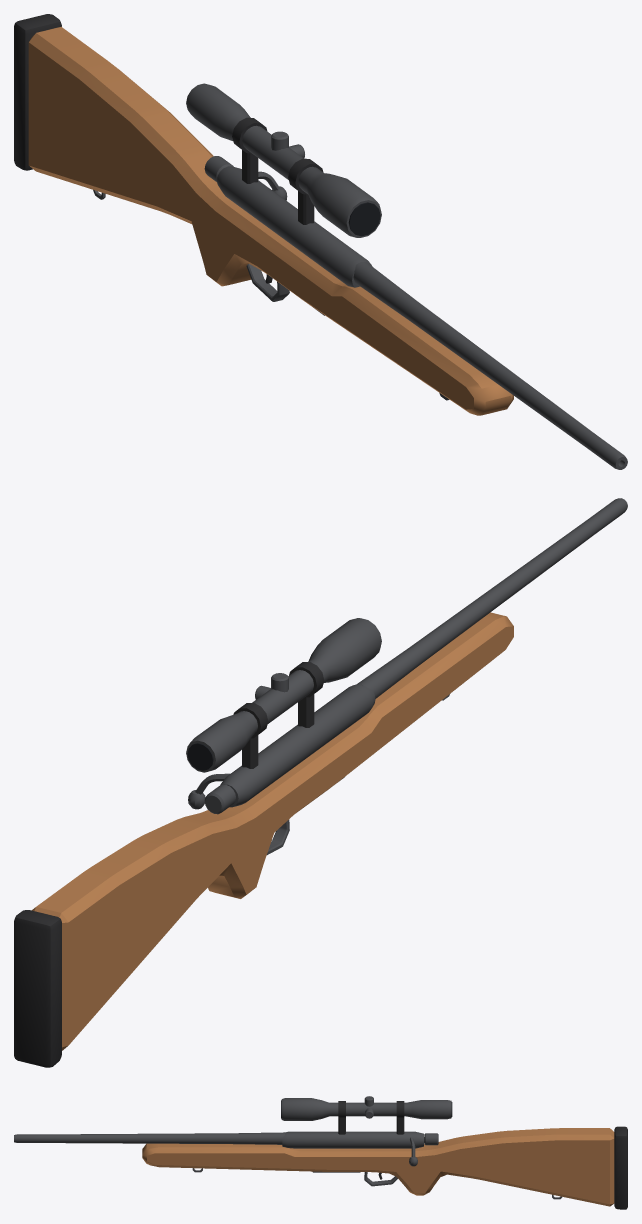
The model's file is PropRifle.fbx.
3 views of the same model, one above another, from view 1: azimuth 30°, elevation 25°; view 2: azimuth 150°, elevation 25°; view 3: azimuth 270°, elevation 25° (orthographic). The views are drawn at different scales.
Parts seen in each view (by area): view 1: PropRifle_Mesh; view 2: PropRifle_Mesh; view 3: PropRifle_Mesh.
Part boxes in pixels (<box>): PropRifle_Mesh: <box>14,14,627,469</box>; PropRifle_Mesh: <box>14,498,627,1067</box>; PropRifle_Mesh: <box>14,1096,627,1209</box>.
Bounding box in the file's own units: 0.0755 × 0.2195 × 1.13.
